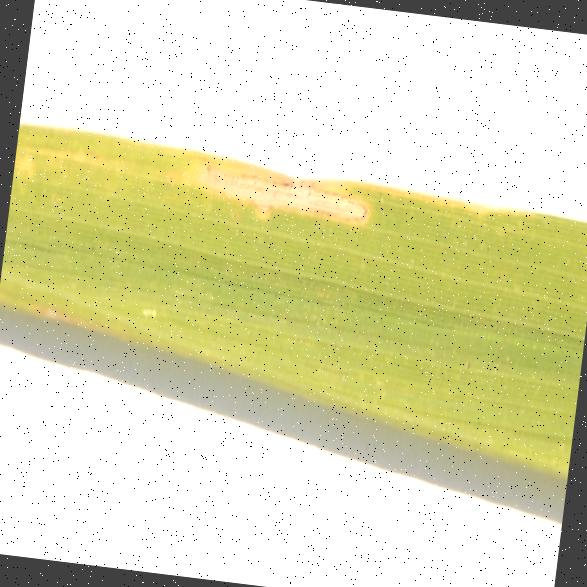Bacteria_Leaf_Blight: (3, 88, 542, 320)
